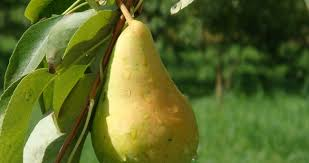pear: (89, 23, 200, 163)
